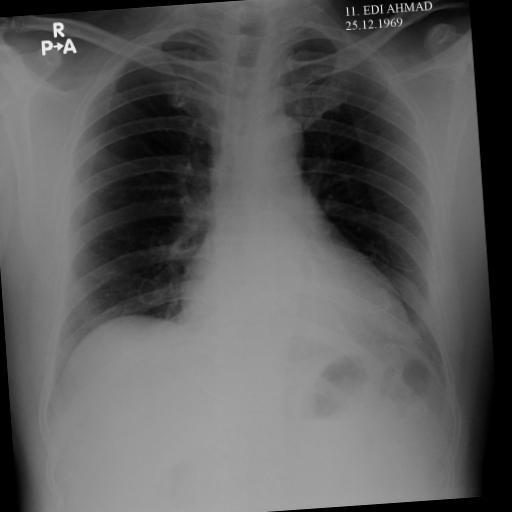kardiomegali: (20, 0, 452, 404)
